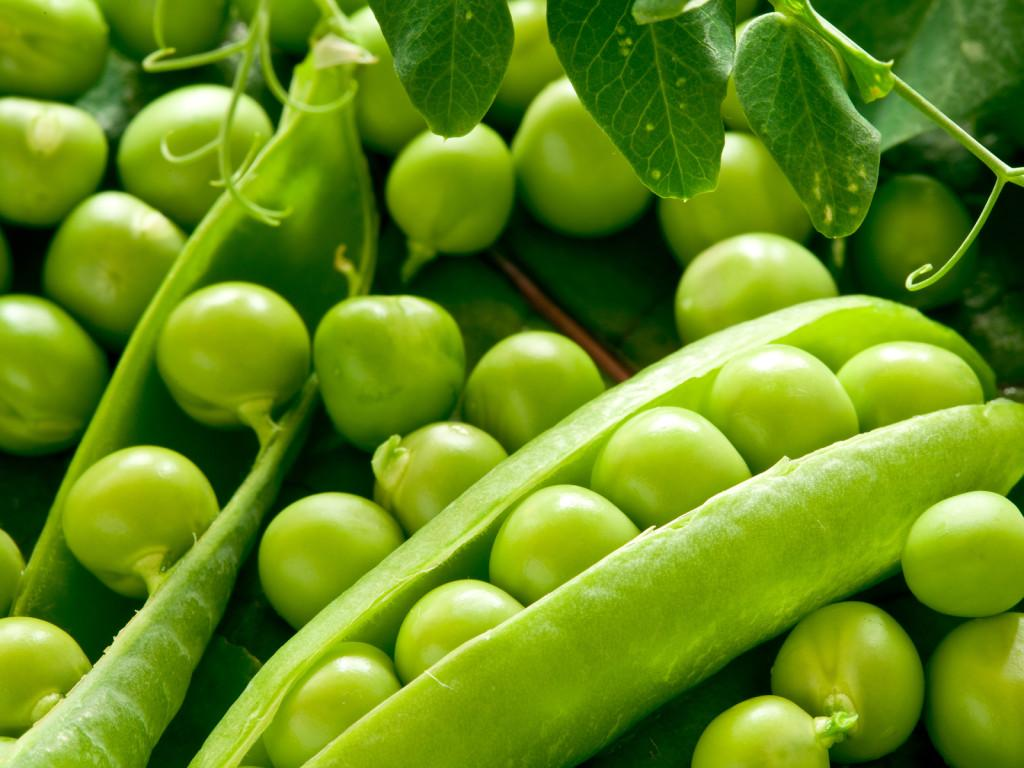peas: (0, 0, 1021, 766), (0, 0, 295, 763), (691, 488, 1022, 766)
